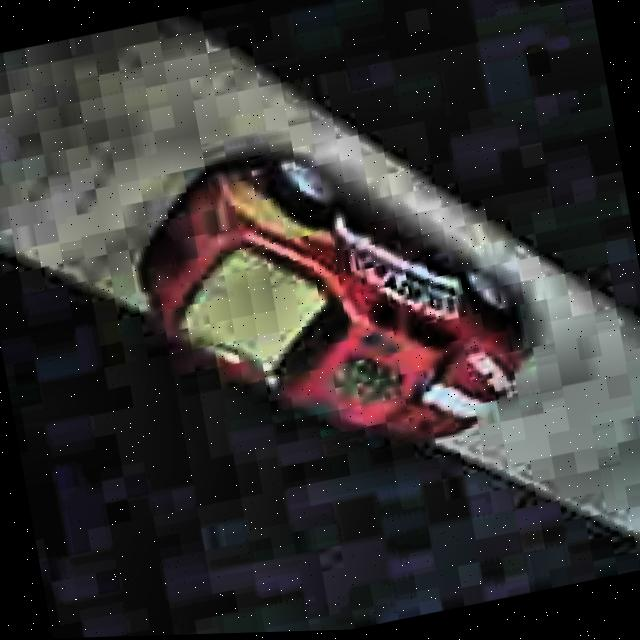car: (113, 97, 546, 507)
